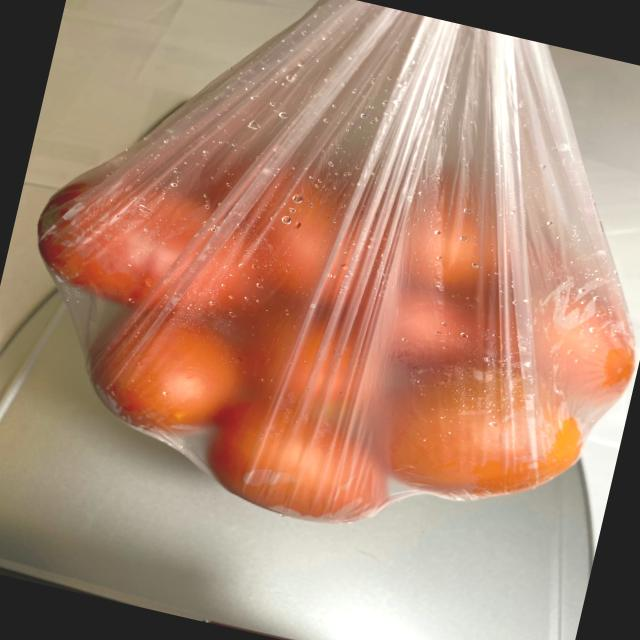tomato: (0, 71, 640, 575)
